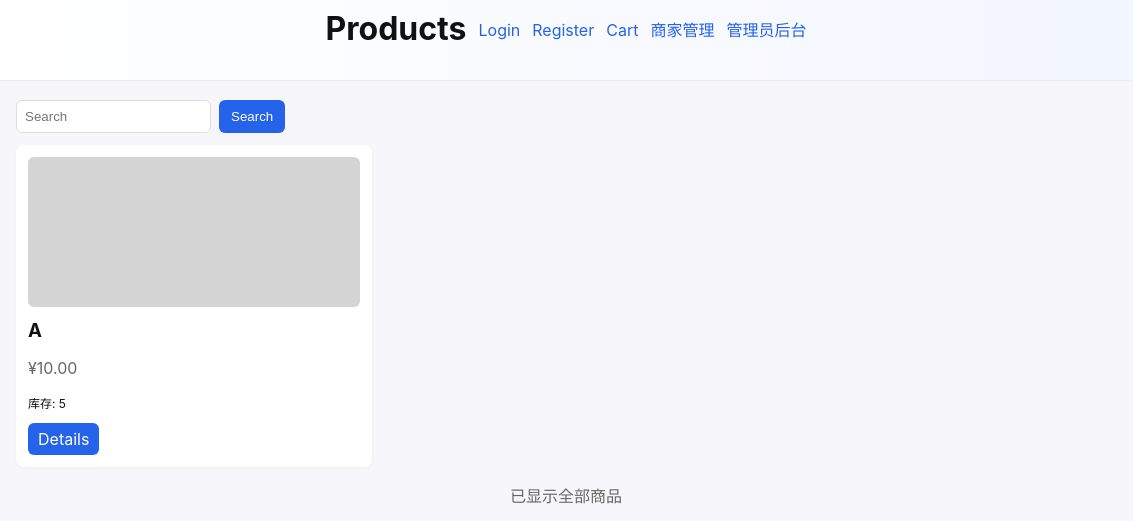
Test: shows products and handles empty result
The width and height of the screenshot is (1133, 521).
Check: the heading "A" is shown, box [28,319,42,342]
Type "zzz" into the field with placeholder "Search" at point(114, 116), box [16,100,211,133]
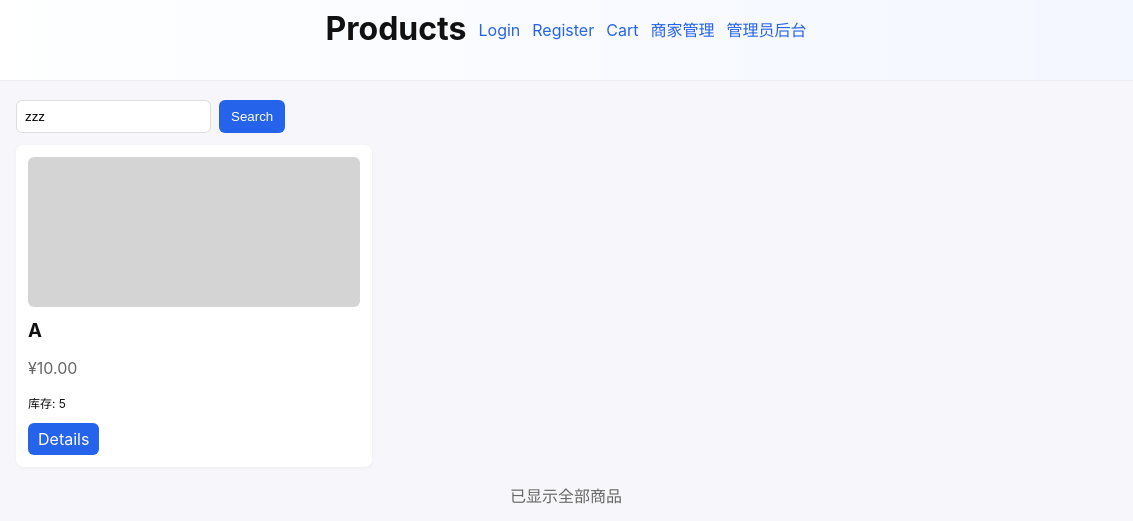
Submit the form from the field with placeholder "Search", box [16,100,211,133]
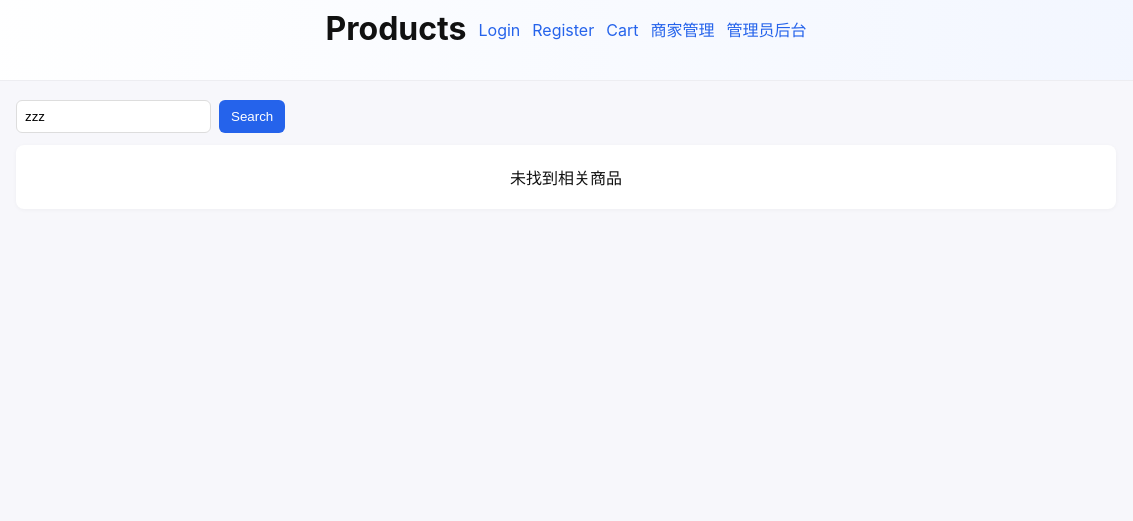
Check: the text "未找到相关商品" is shown, box [16,145,1116,209]
